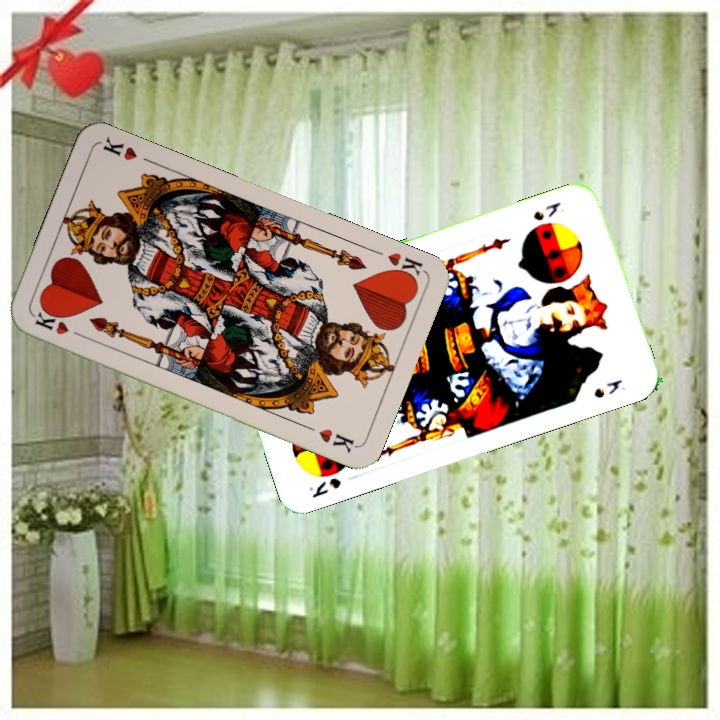HK: (31, 305, 88, 340), (382, 248, 427, 285)
SK: (304, 473, 344, 501), (529, 198, 563, 224)
